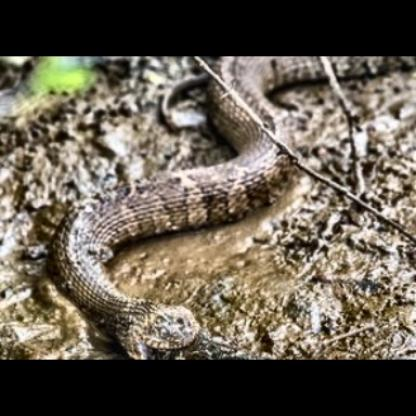Snake: (10, 63, 410, 353)
